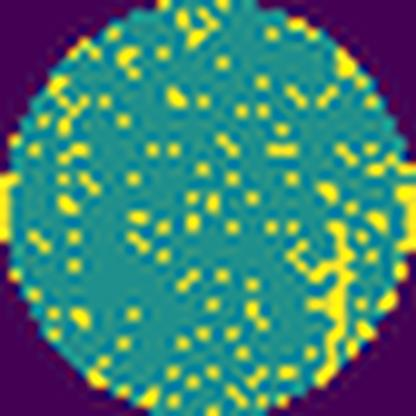Scratch: (287, 219, 360, 390)
